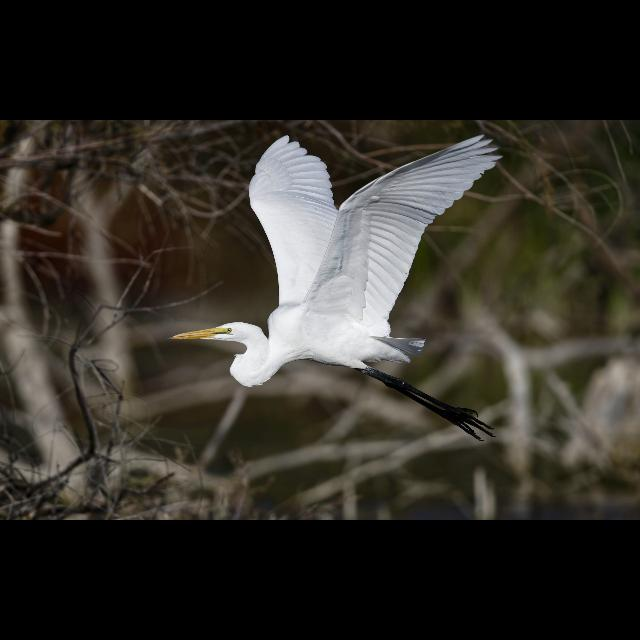heron: (175, 133, 499, 439)
